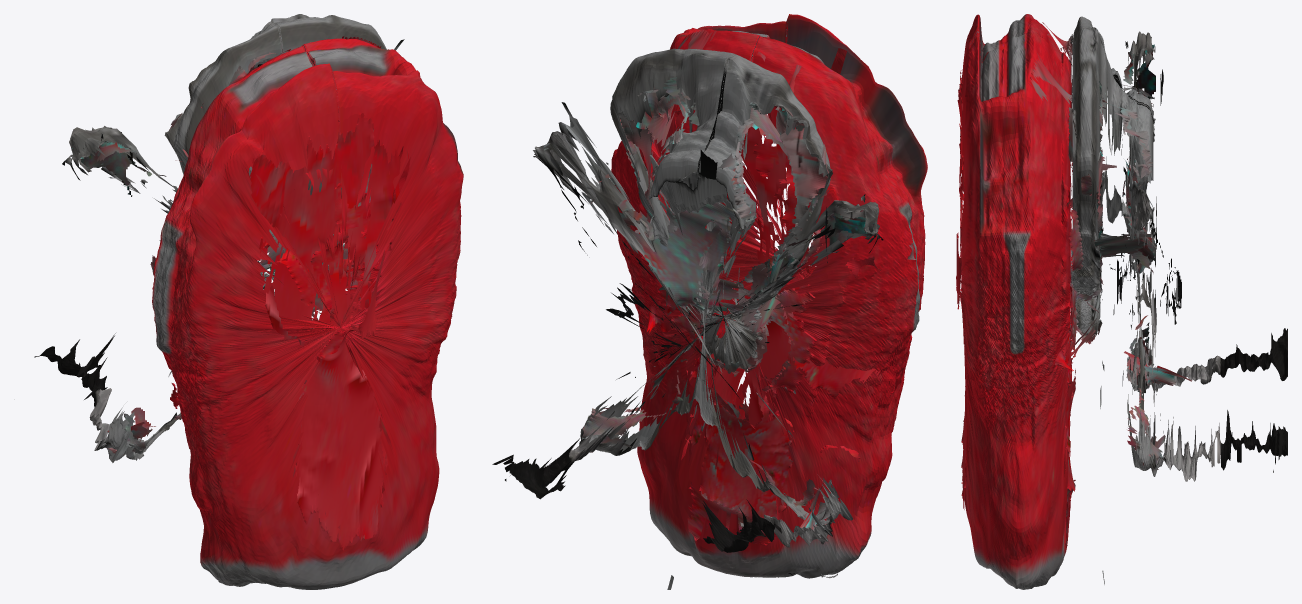
Rendered from mesh_inpaint.glb.
3 views of the same model, side by side, from view 1: azimuth 30°, elevation 25°; view 2: azimuth 150°, elevation 25°; view 3: azimuth 270°, elevation 25° (orthographic). The views are drawn at different scales.
Visible parts, largest first — view 1: ipn, fill; view 2: ipn, fill; view 3: ipn, fill.
Boxes of the visible parts, box(x1,y1,x2,y2) form: ipn: box(34, 14, 463, 589); fill: box(72, 36, 408, 583); ipn: box(492, 14, 927, 589); fill: box(543, 29, 916, 578); ipn: box(959, 14, 1287, 589); fill: box(956, 22, 1278, 546).
Bounding box in the file's own units: 1.27 × 1.86 × 1.05.
Materials: 2 (1 with a texture image).
